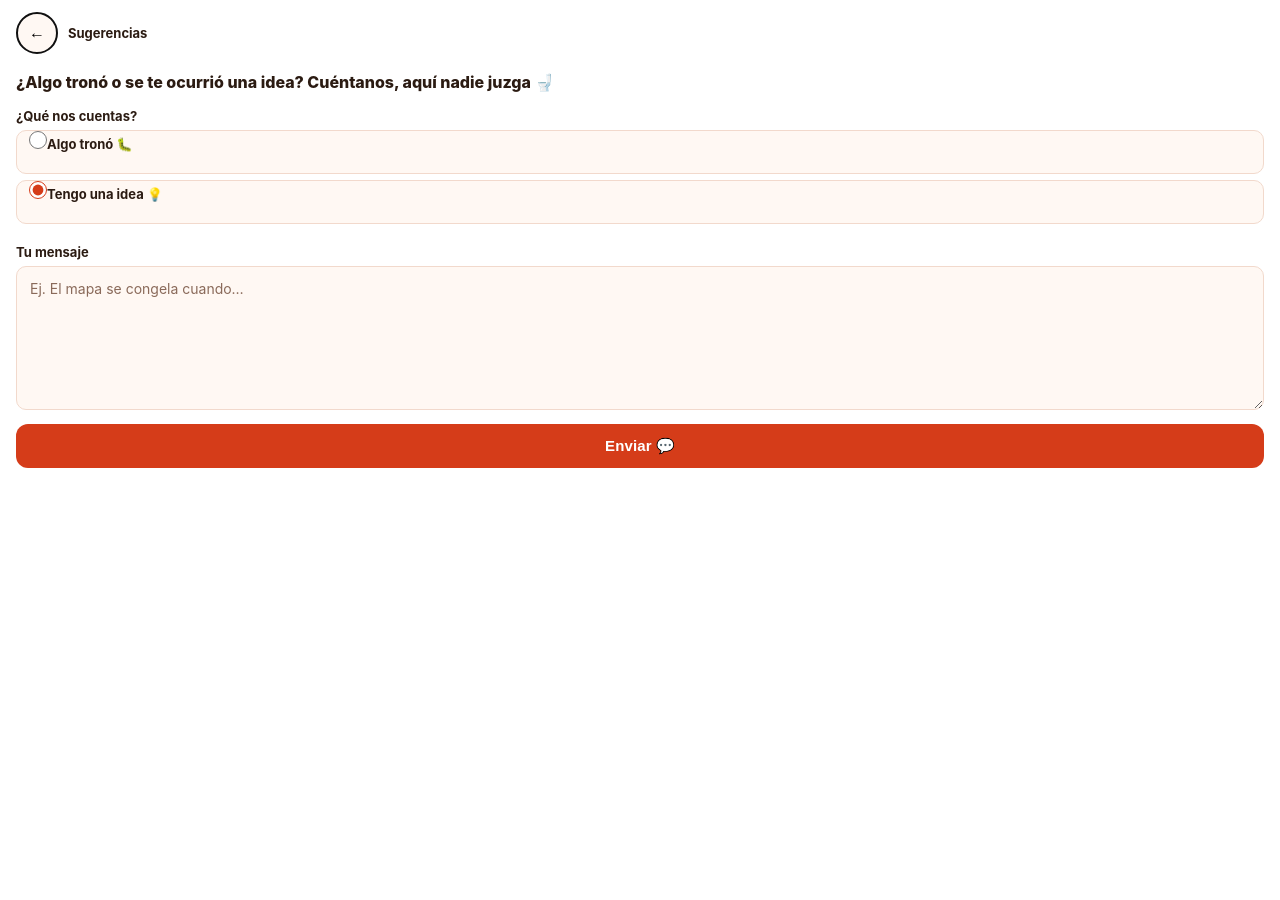
it: Sugerencias › si el envío falla muestra error de marca y conserva texto y tipo para reintentar
Click the radio button labelled "Algo tronó 🐛" at [38, 140], box [29,131,47,149]
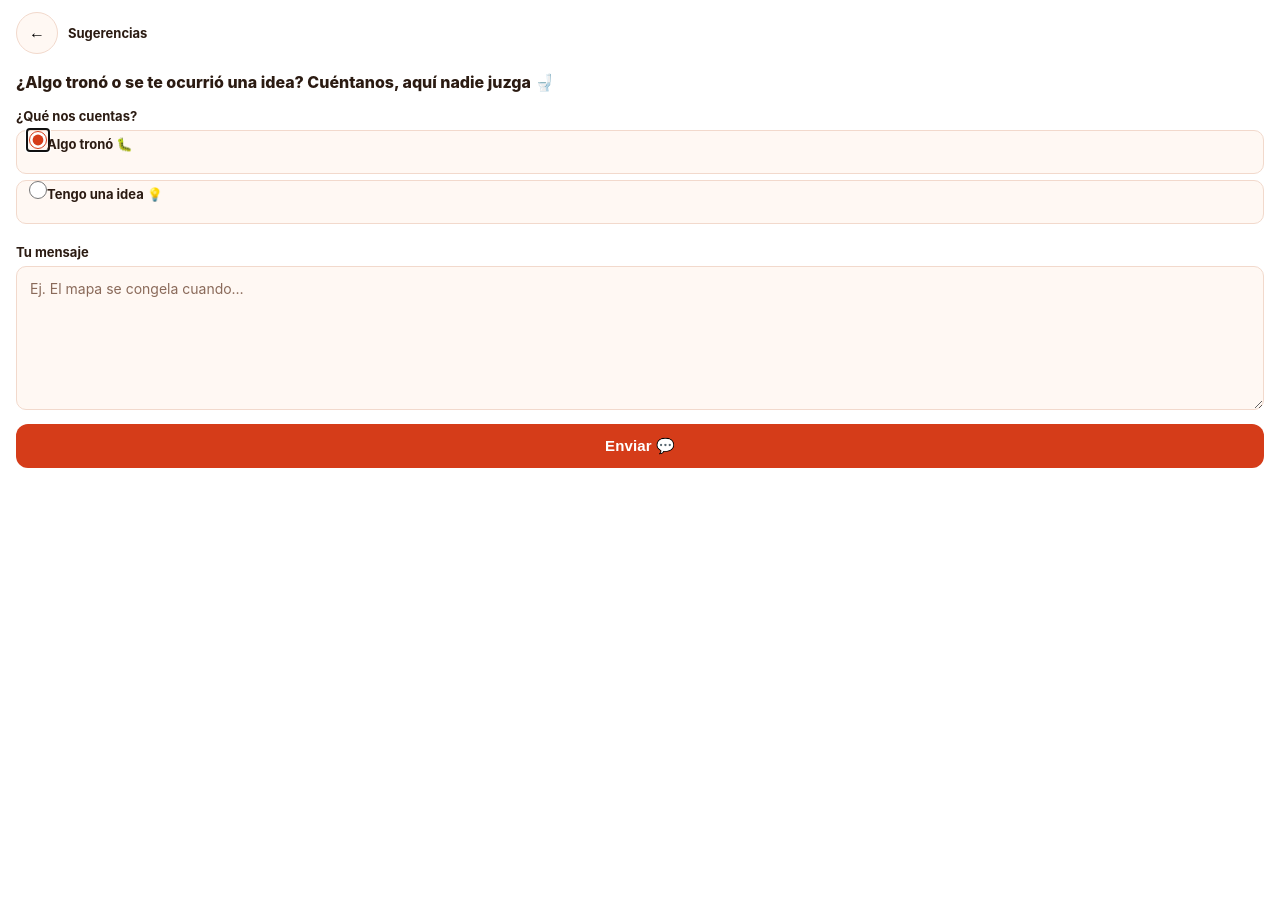
Type "Se cae al calificar" into the text box labelled "Tu mensaje" at [640, 338], box [16,266,1264,410]
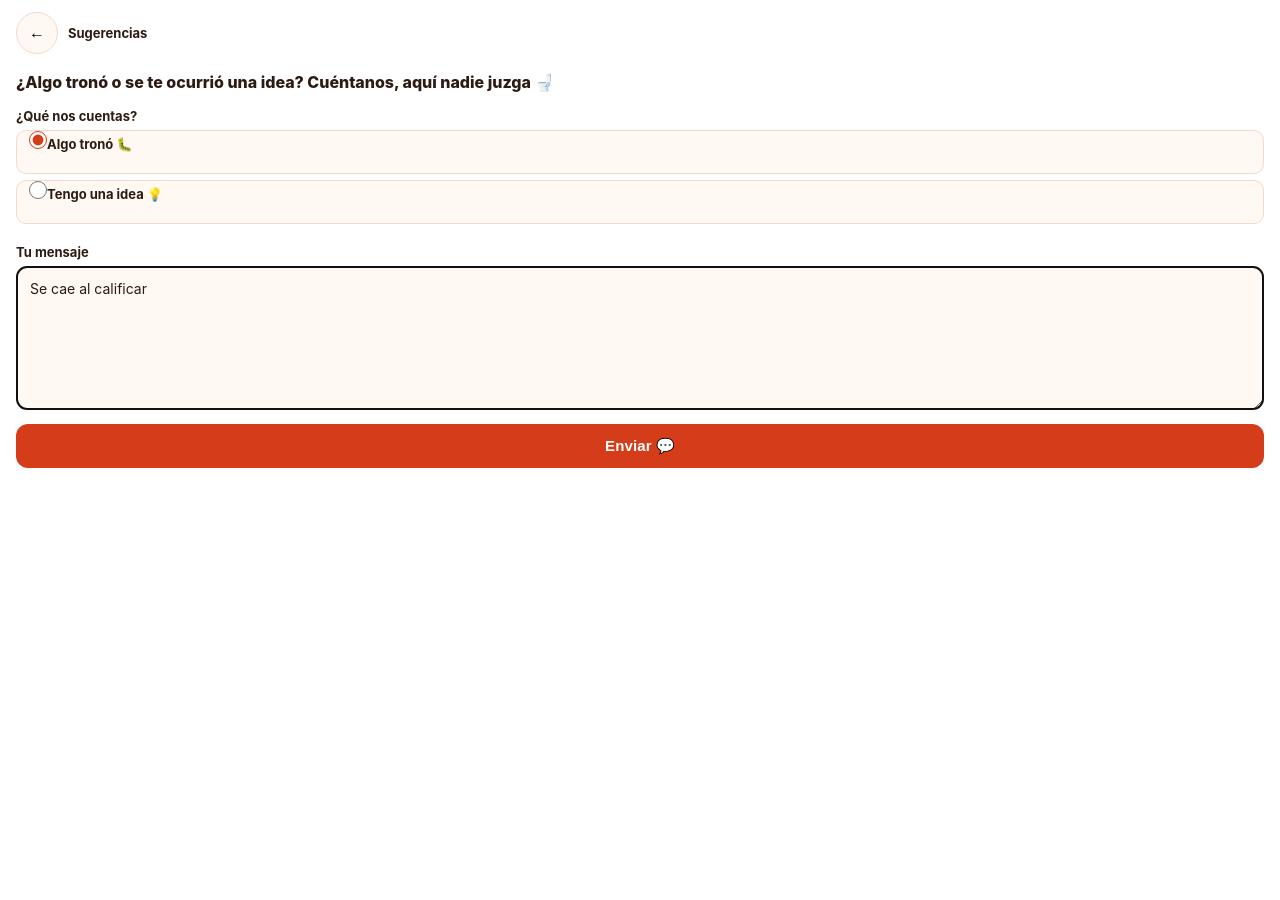
Click the button "Enviar 💬" at [640, 446], box [16,424,1264,468]
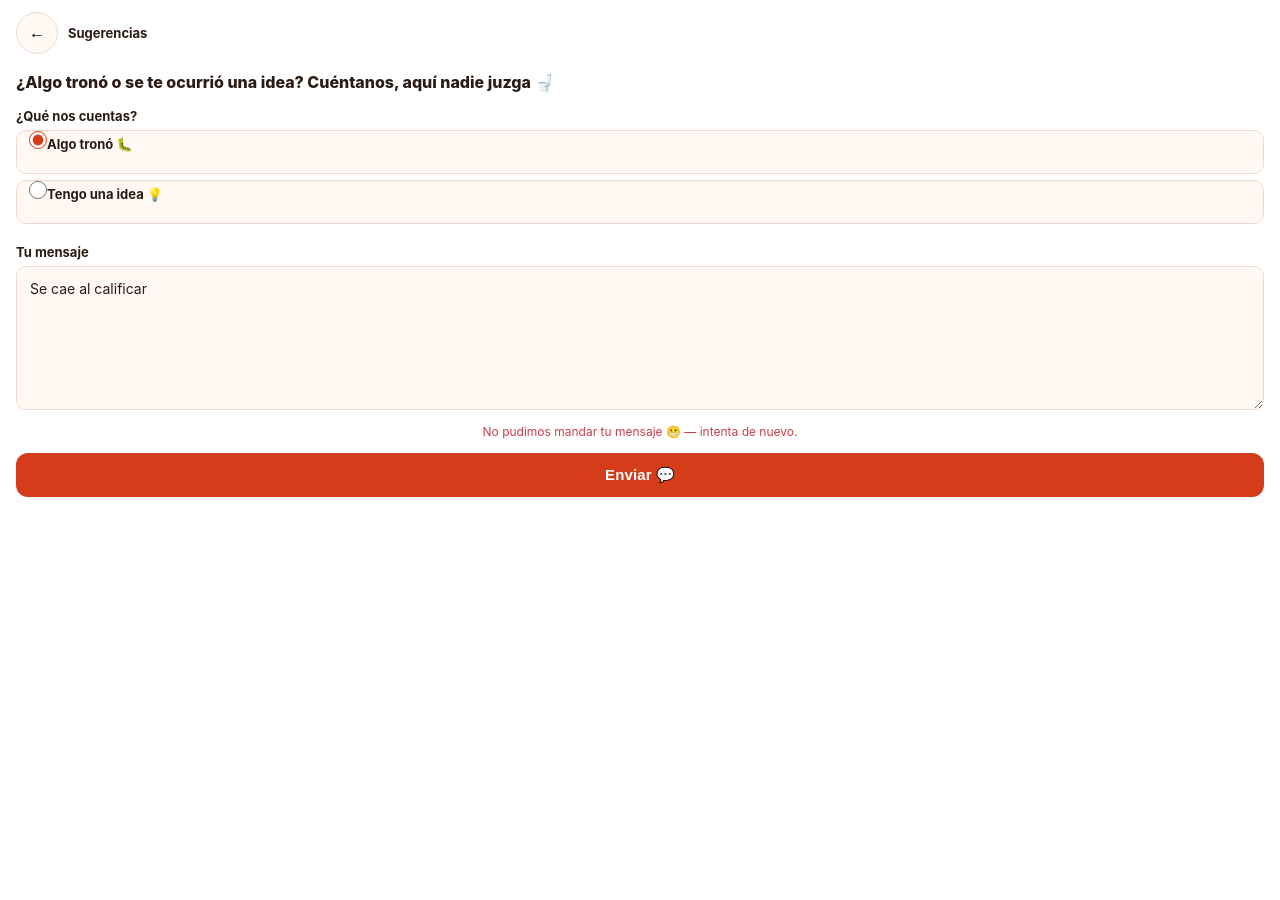
Now the radio button labelled "Algo tronó 🐛" is checked, box [29,131,47,149]
Now the message shows "No pudimos mandar tu mensaje", box [482,424,797,439]
Click the button "Enviar 💬" at [640, 475], box [16,453,1264,497]
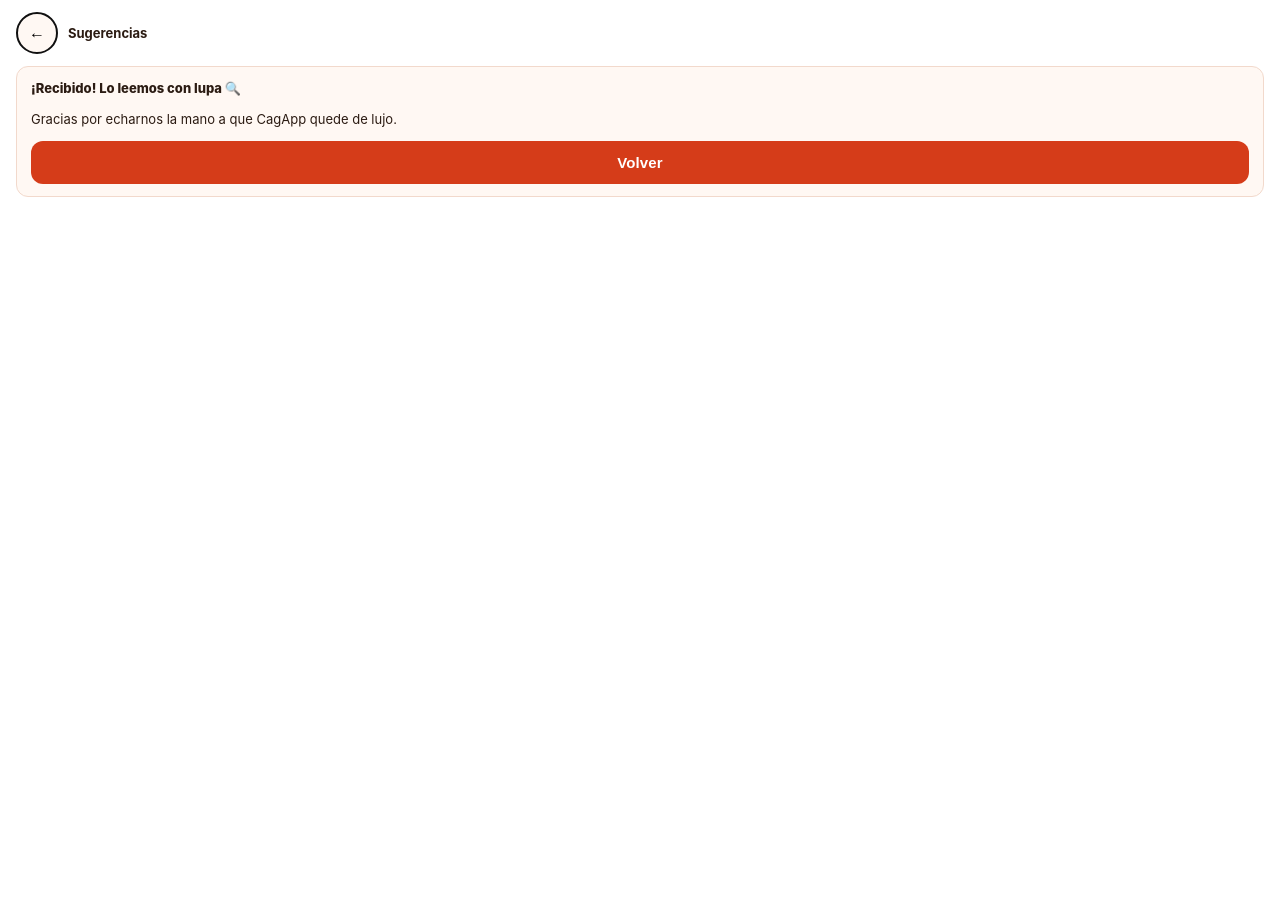
Now the text "¡Recibido! Lo leemos con lupa 🔍" is shown, box [31,80,241,96]
